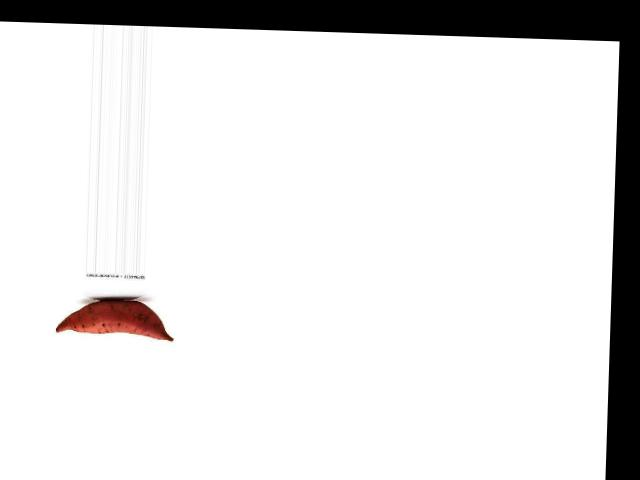sweet_potato: (54, 296, 175, 347)
